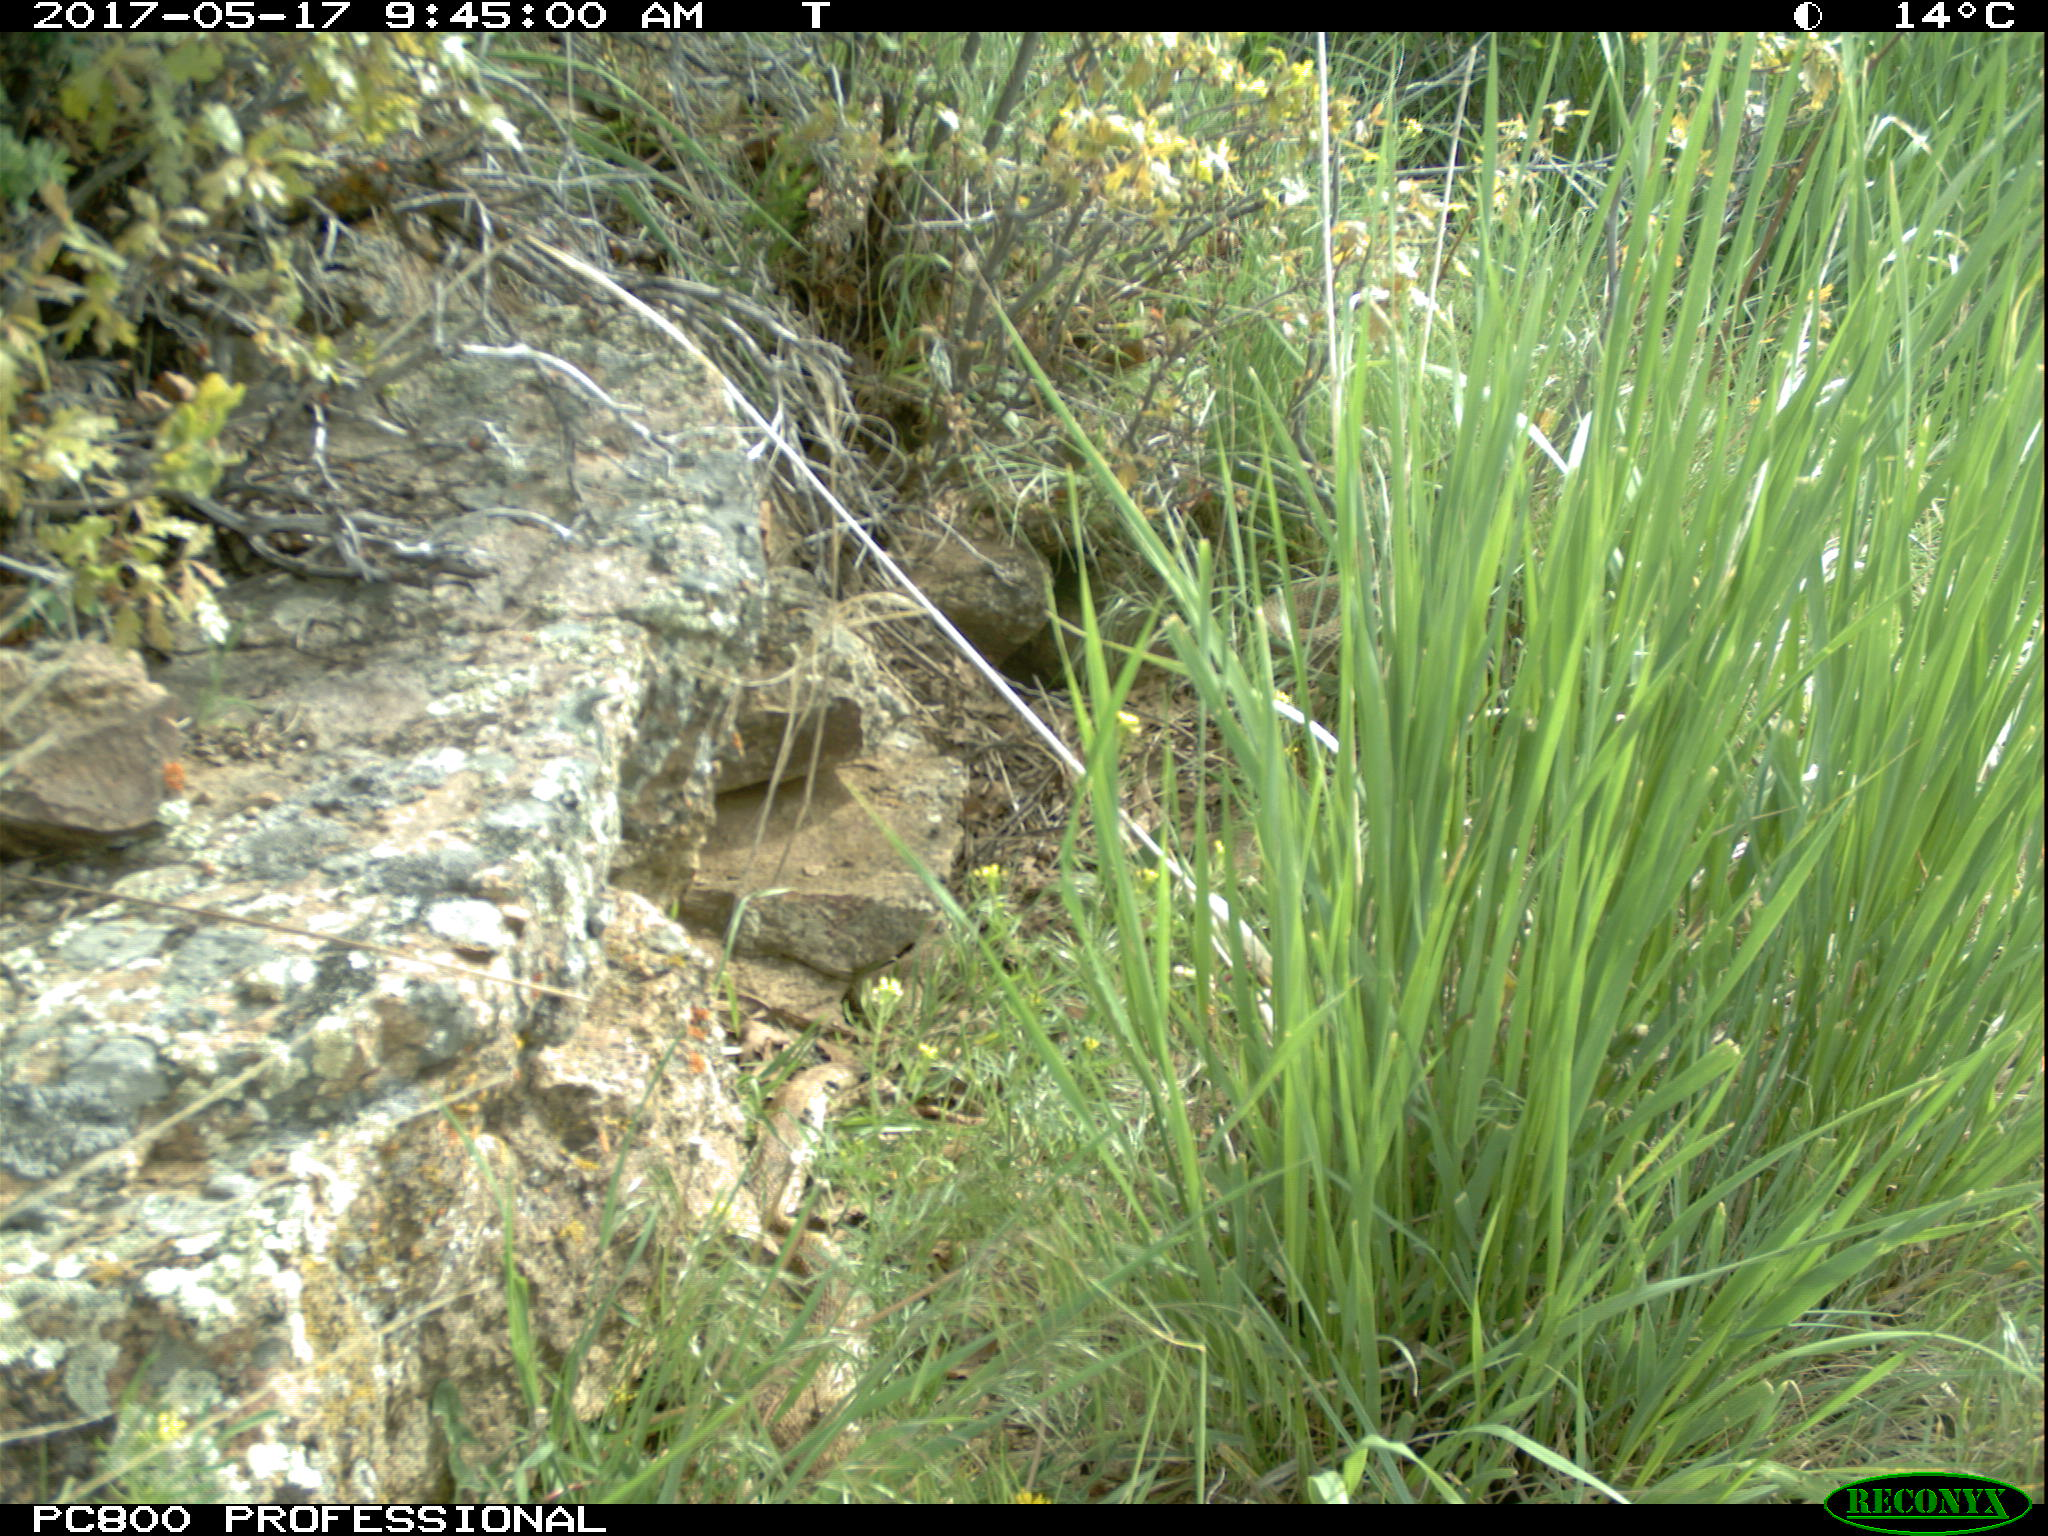snake: (751, 1063, 861, 1467), (1256, 570, 1359, 657)
